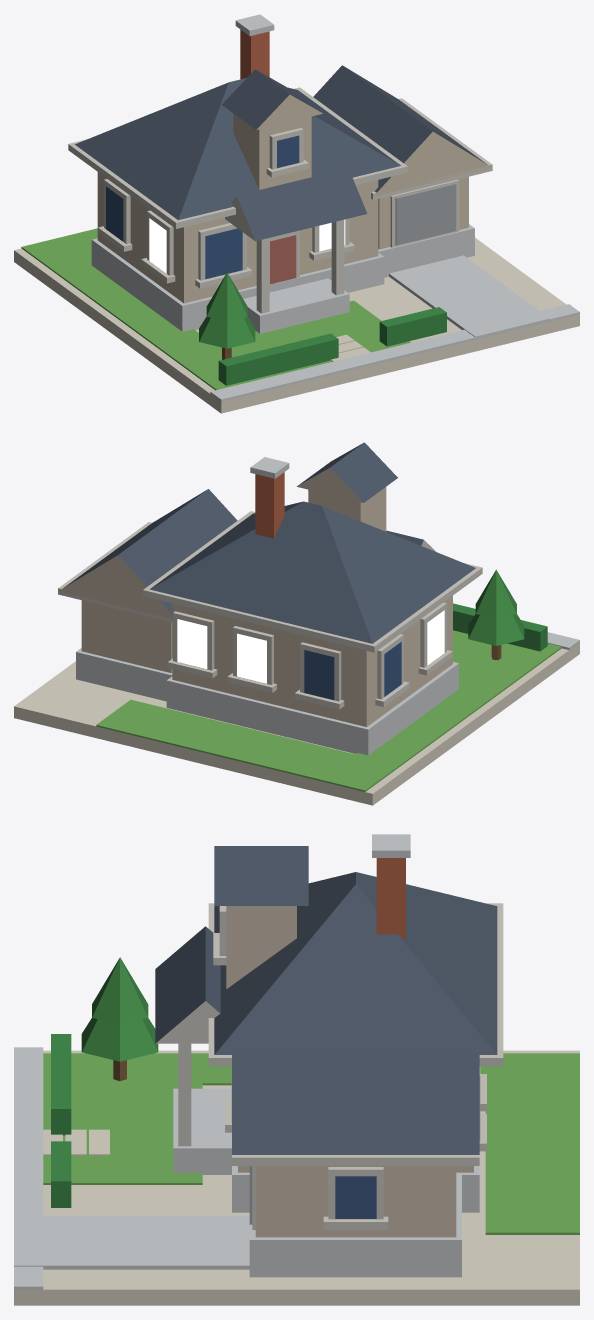
3 renders of one model, top to bottom at view 1: azimuth 30°, elevation 25°; view 2: azimuth 150°, elevation 25°; view 3: azimuth 270°, elevation 25°, orthographic. The views are drawn at different scales.
Parts seen in each view (by area): view 1: b01_v2_lod1; view 2: b01_v2_lod1; view 3: b01_v2_lod1.
Boxes of the visible parts, x1=… form: b01_v2_lod1: x1=14, y1=14, x2=579, y2=413; b01_v2_lod1: x1=14, y1=442, x2=579, y2=805; b01_v2_lod1: x1=14, y1=834, x2=579, y2=1305.
Bounding box in the file's own units: 0.96 × 0.634 × 0.96.
